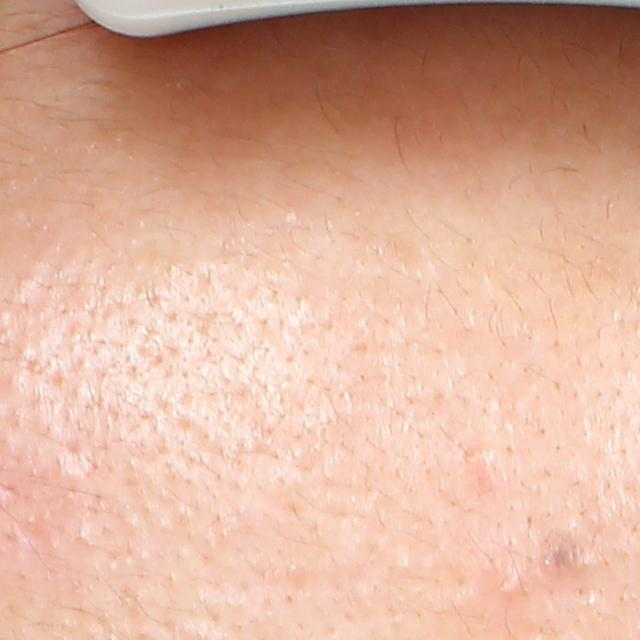comedo: (491, 567, 527, 602), (466, 444, 503, 476)
